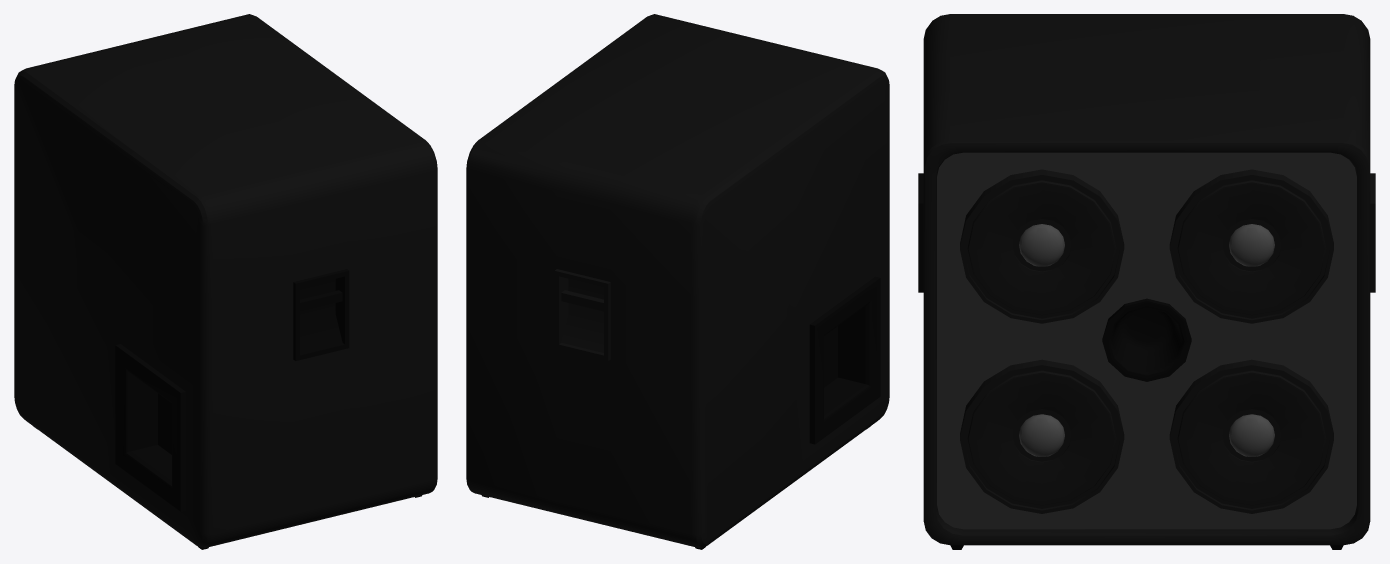
The model's file is Venue_Speaker_03.glb.
3 renders of one model, left to right at view 1: azimuth 30°, elevation 25°; view 2: azimuth 150°, elevation 25°; view 3: azimuth 270°, elevation 25°, orthographic. The views are drawn at different scales.
Parts seen in each view (by area): view 1: Mesh_Venue_Speaker_03; view 2: Mesh_Venue_Speaker_03; view 3: Mesh_Venue_Speaker_03.
Part boxes in pixels (left/top/right/bottom): Mesh_Venue_Speaker_03: left=14, top=14, right=437, bottom=549; Mesh_Venue_Speaker_03: left=466, top=14, right=889, bottom=549; Mesh_Venue_Speaker_03: left=918, top=14, right=1375, bottom=549.
Bounding box in the file's own units: 0.3608 × 0.507 × 0.5122.
Materials: 1 (1 with a texture image).
